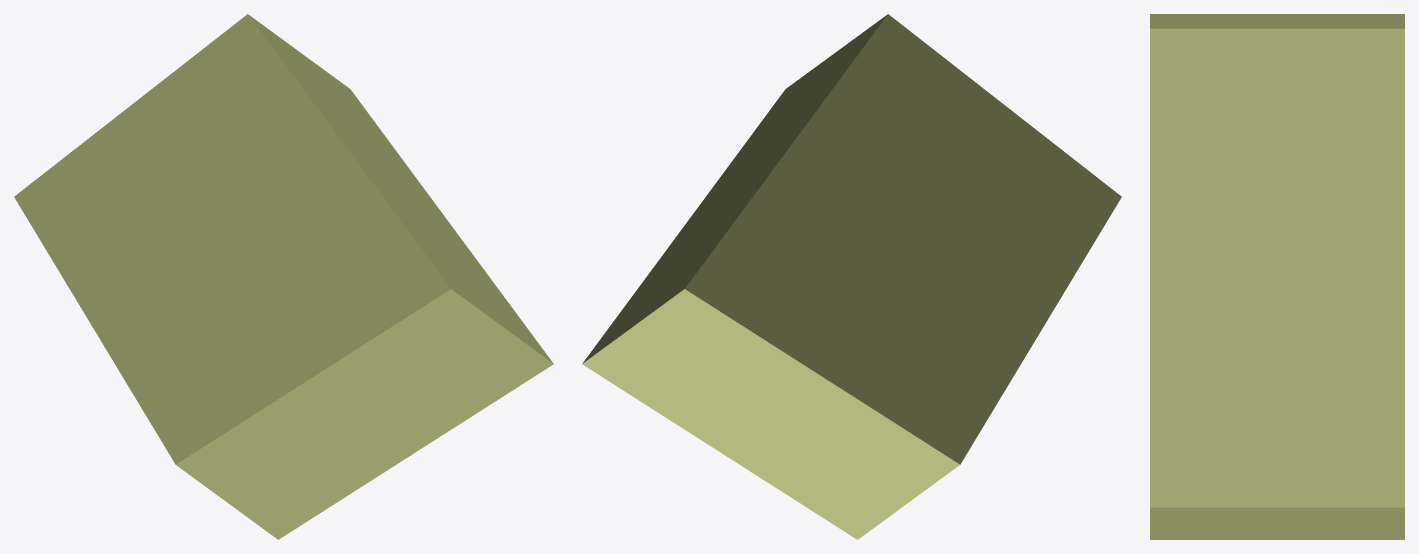
The picture shows the model from 3 angles, left to right: view 1: azimuth 30°, elevation 25°; view 2: azimuth 150°, elevation 25°; view 3: azimuth 270°, elevation 25°; orthographic projection. The views are drawn at different scales.
Parts seen in each view (by area): view 1: 0_2_3_2_1_2_3_2_0_0; view 2: 0_2_3_2_1_2_3_2_0_0; view 3: 0_2_3_2_1_2_3_2_0_0.
Boxes of the visible parts, x1=… form: 0_2_3_2_1_2_3_2_0_0: x1=14, y1=14, x2=553, y2=539; 0_2_3_2_1_2_3_2_0_0: x1=582, y1=14, x2=1121, y2=539; 0_2_3_2_1_2_3_2_0_0: x1=1150, y1=14, x2=1404, y2=539.
Size of the model in its own units: 14.74 by 13.96 by 6.
